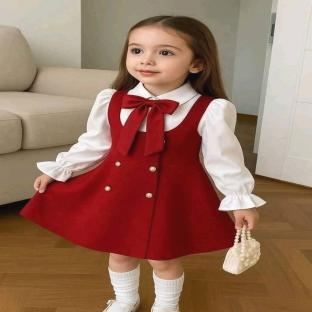Human: (20, 16, 266, 312)
